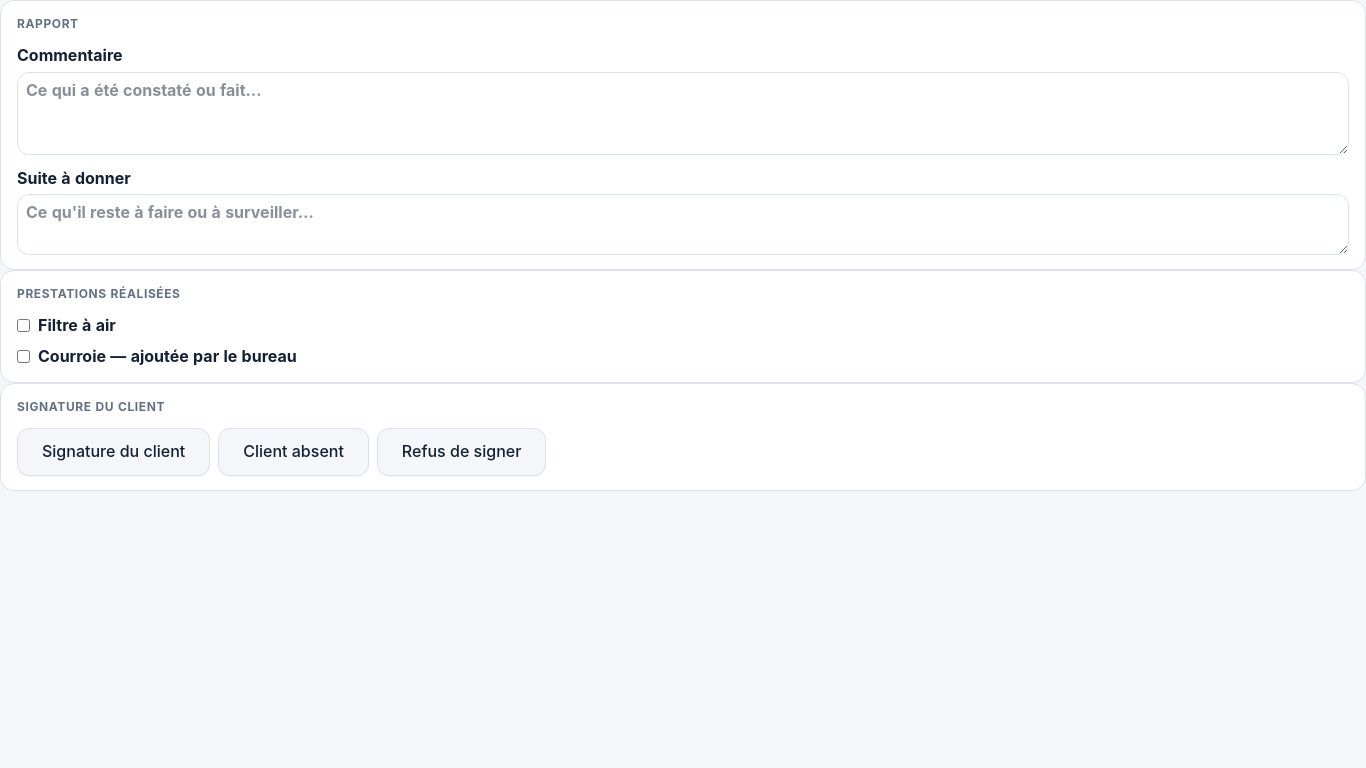
le message d'échec nomme le bon bloc (9G1-CORRECTIFS-AUDIT-URGENTS, point 3) › un échec serveur sur les prestations affiche son propre refus, jamais celui du rapport
This screenshot has width=1366, height=768.
Click the checkbox labelled "Filtre à air" at coordinates (24, 326), box [17, 319, 30, 332]
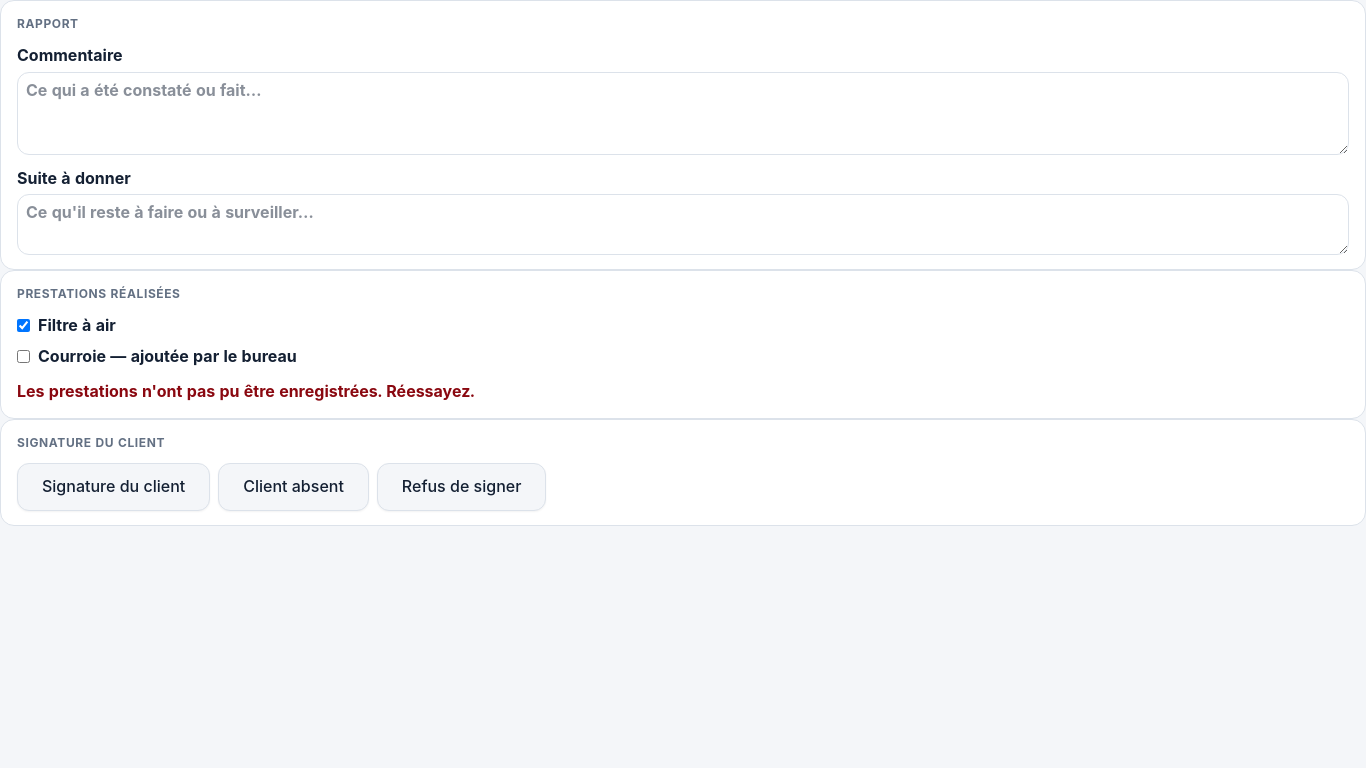
Expected: the text "Les prestations n'ont pas pu être enregistrées. Réessayez." is shown, [17, 382, 475, 402]
